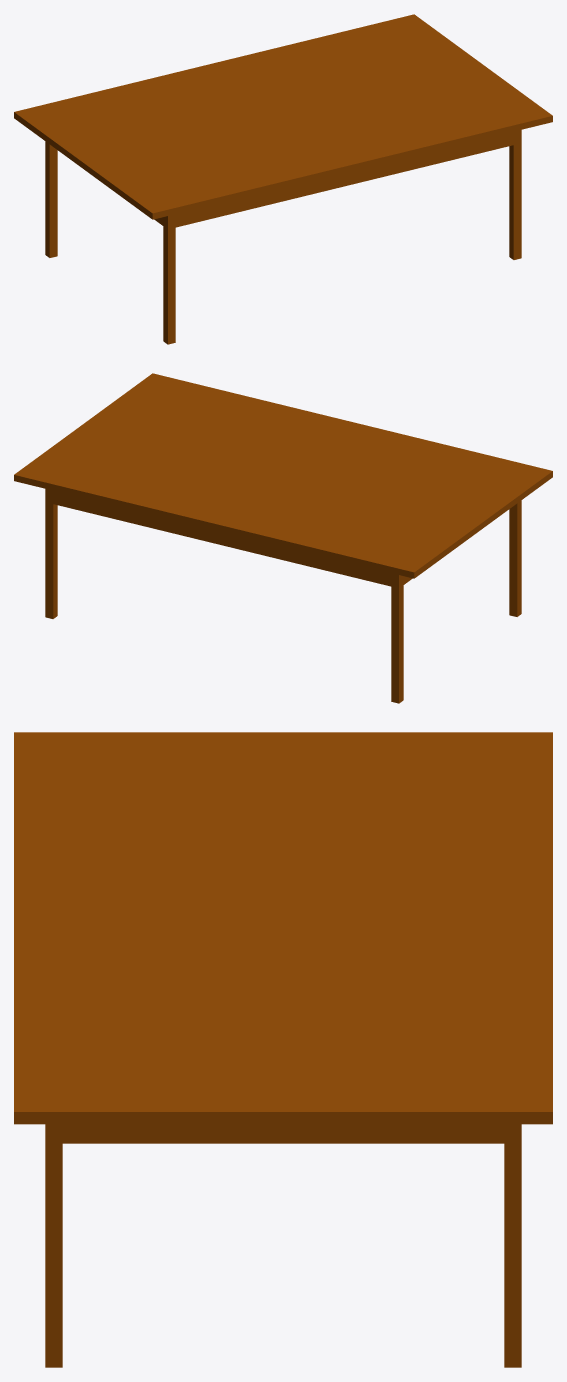
File: Mesa10_.fbx
3 renders of one model, top to bottom at view 1: azimuth 30°, elevation 25°; view 2: azimuth 150°, elevation 25°; view 3: azimuth 270°, elevation 25°, orthographic. The views are drawn at different scales.
Parts seen in each view (by area): view 1: Cube; view 2: Cube; view 3: Cube.
Part boxes in pixels (x1,y1,x2,y2): Cube: (14, 14, 552, 344); Cube: (14, 373, 552, 703); Cube: (14, 732, 552, 1367).
Bounding box in the file's own units: 600 × 204 × 360.
